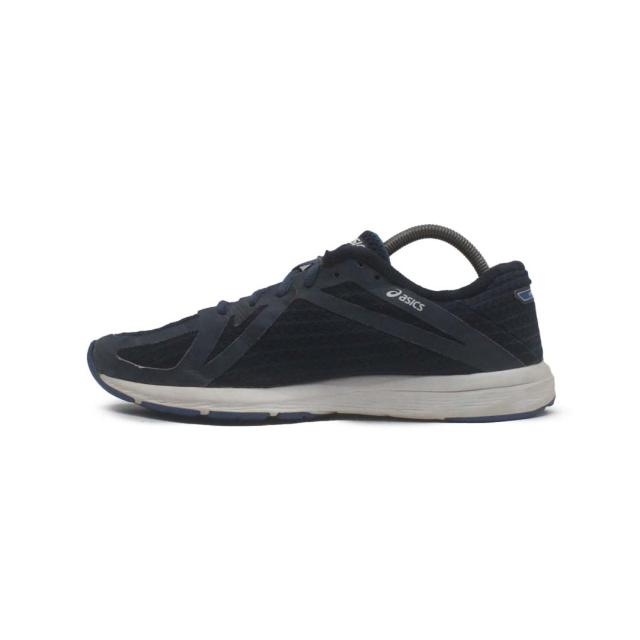heel: (471, 258, 545, 378)
midsole: (89, 361, 558, 420)
uppersole: (87, 234, 495, 388)
